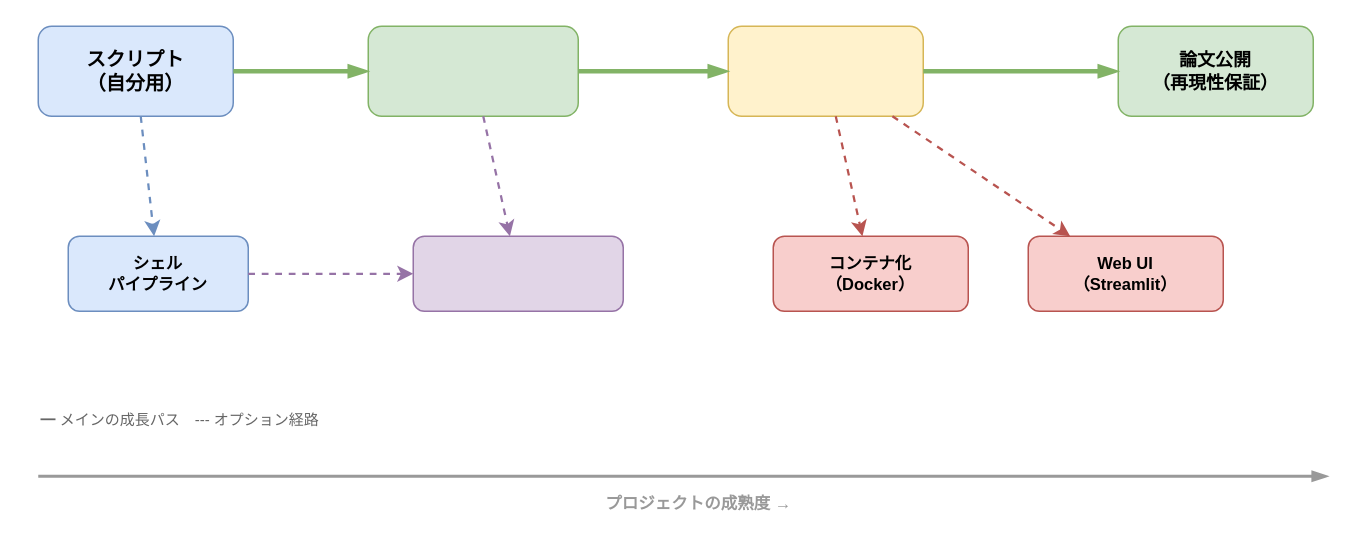
Some shapes in this 1367 by 540 pixel diagram are drawn without their labels. Here are the shapes that lost their labels. From the top down, the centre of each, then its label:
[472,70]: pip パッケージ （CLIつき）
[825,70]: conda / PyPI 公開
[517,273]: ワークフロー統合 （Snakemake）
